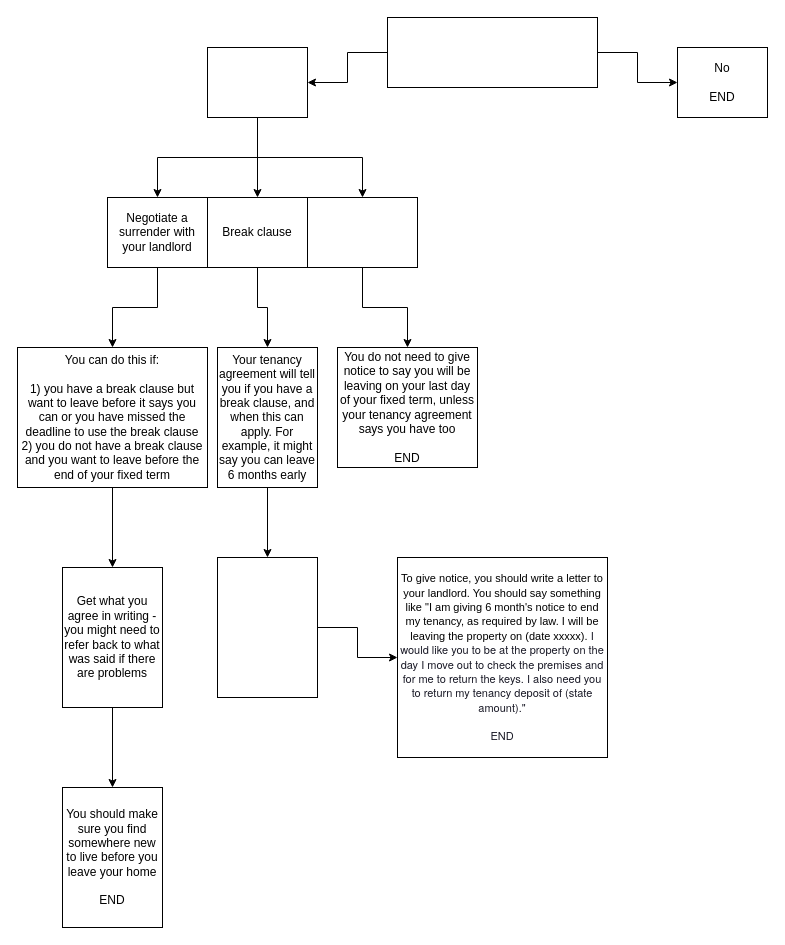
Image size: 785x945. Some labels were removed from this diagram. Each missing label, with the box of its shape:
Do you want to leave a fixed term tenancy agreement?: (386, 16, 598, 88)
Leave on the last day: (306, 196, 418, 268)
Yes: (206, 46, 308, 118)
You must give notice to your landlord - your tenancy agreement will say when: (216, 556, 318, 698)
